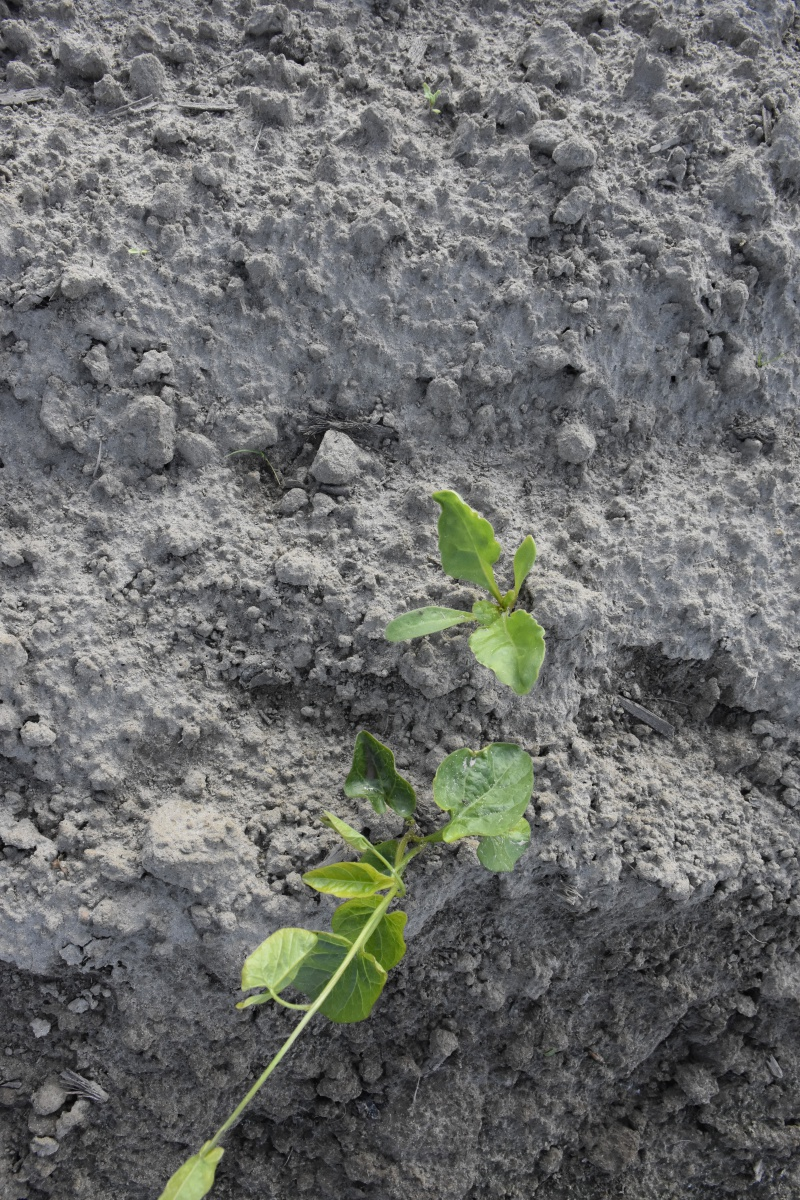field bindweed: (161, 727, 541, 1196)
sugar beet: (368, 480, 560, 697)
